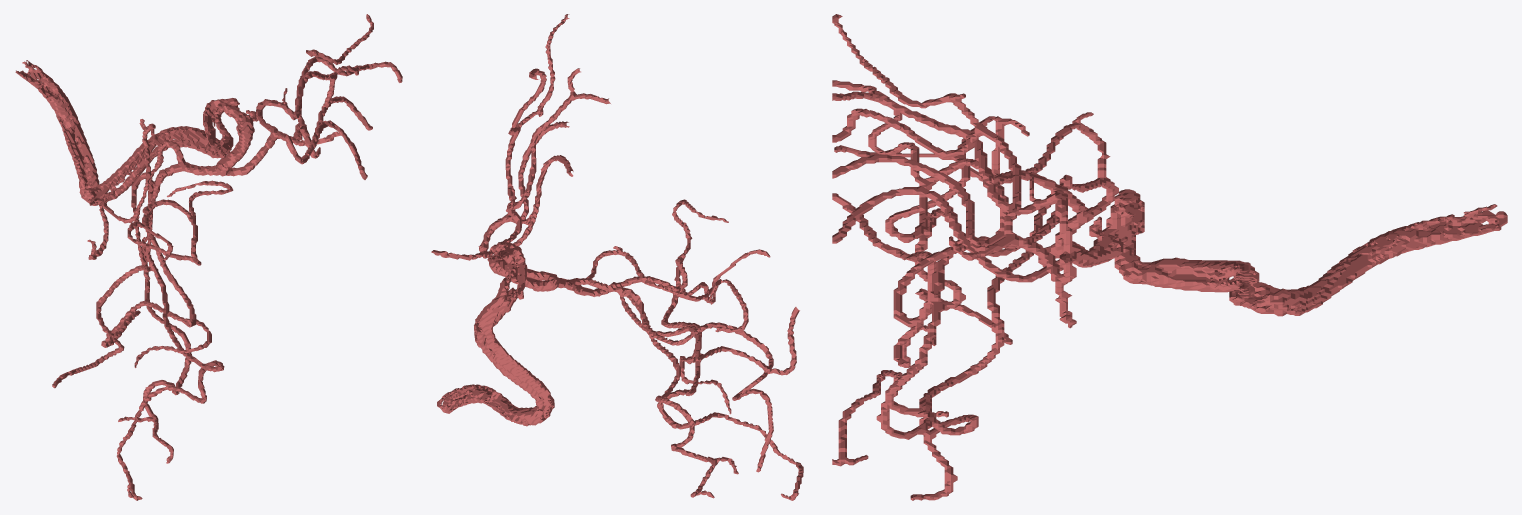
The model's file is vessel_tree.glb.
3 views of the same model, side by side, from view 1: azimuth 30°, elevation 25°; view 2: azimuth 150°, elevation 25°; view 3: azimuth 270°, elevation 25° (orthographic). The views are drawn at different scales.
Visible parts, largest first — view 1: world; view 2: world; view 3: world.
Part boxes in pixels (x1,y1,x2,y2): world: [15, 14, 402, 500]; world: [431, 14, 803, 500]; world: [832, 14, 1507, 500].
Size of the model in its own units: 83.91 by 111 by 111.
